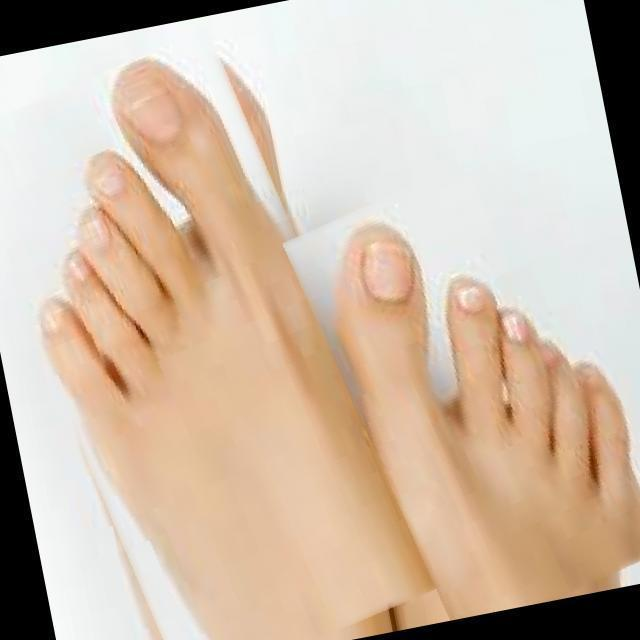No_Shoes: (42, 36, 352, 631), (357, 199, 640, 640)
